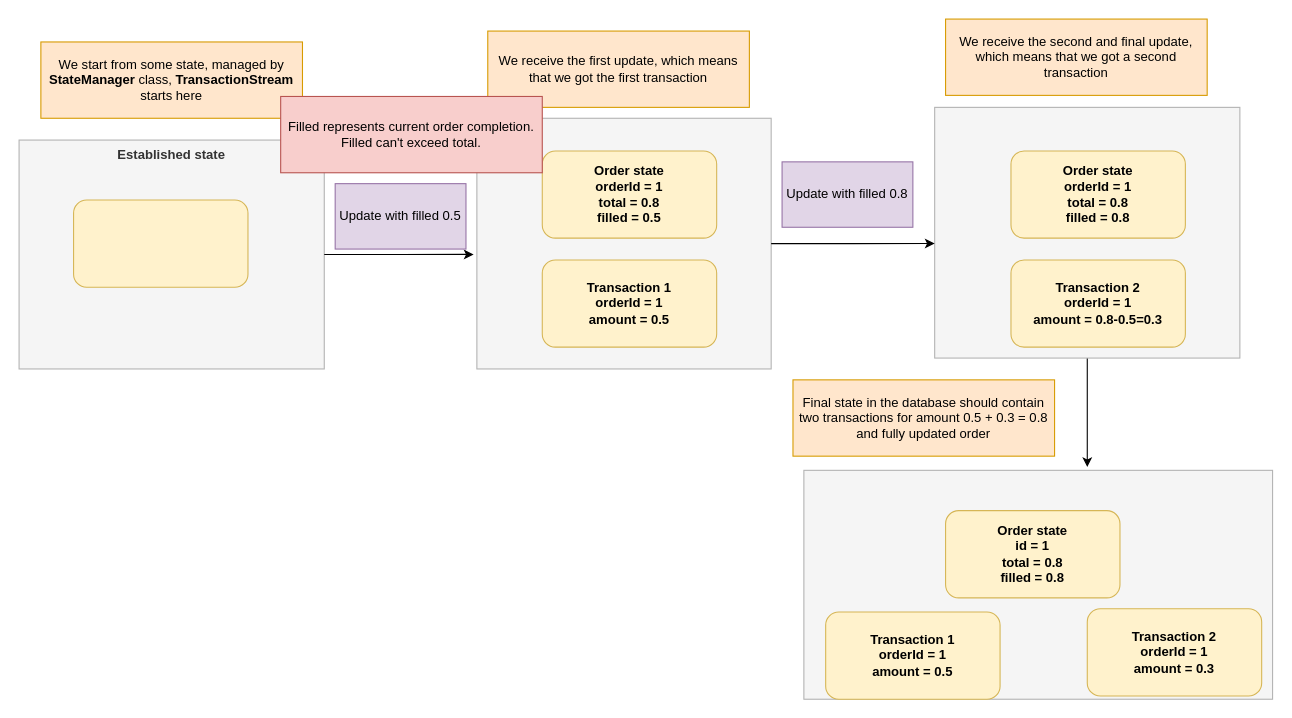
Image size: 1292x718. Some labels were removed from this diagram. The shapes that lost their labels are listed below. From the top down, each one's box as (x1, y1, x2, y2) in pixels, then its label:
(72, 199, 248, 287): Order state orderId = 1 total = 0.8 filled = 0
(476, 117, 771, 369): Update 1
(934, 106, 1240, 358): Update 2
(803, 469, 1273, 699): Final state
